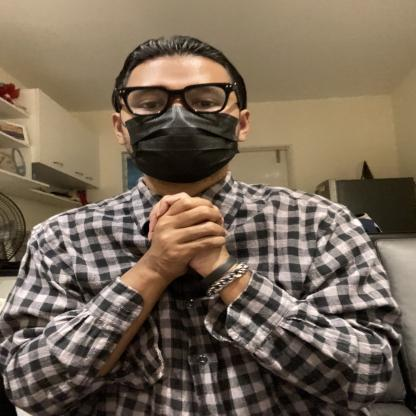Grieve: (39, 168, 335, 308)
